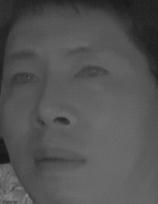eye: (72, 59, 110, 84), (7, 67, 40, 89)
mouth: (29, 141, 86, 180)
